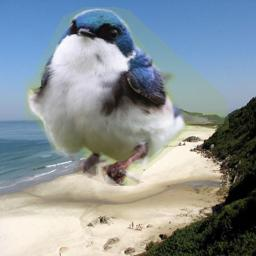Swallow: (25, 7, 229, 186)
